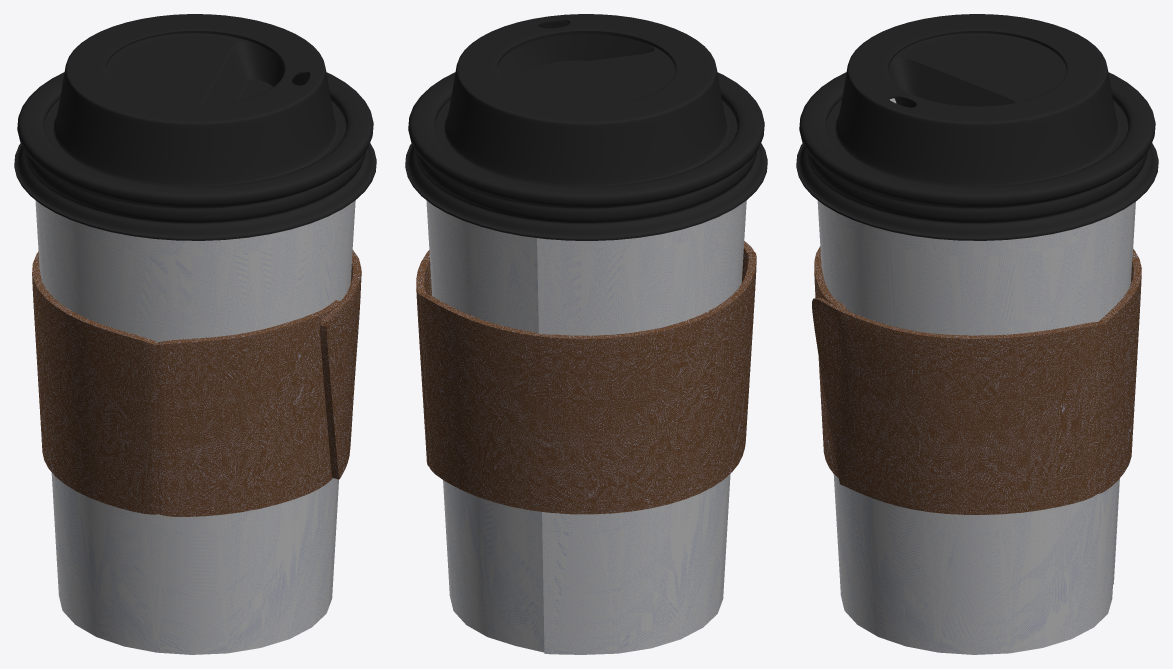
3 renders of one model, left to right at view 1: azimuth 30°, elevation 25°; view 2: azimuth 150°, elevation 25°; view 3: azimuth 270°, elevation 25°, orthographic.
Parts seen in each view (by area): view 1: Circle, Circle.001, Circle.002; view 2: Circle, Circle.001, Circle.002; view 3: Circle, Circle.001, Circle.002.
Part boxes in pixels (box(x1,y1,x2,y2)): Circle: box(35, 200, 355, 654); Circle.001: box(14, 14, 376, 240); Circle.002: box(32, 250, 361, 516); Circle: box(426, 200, 746, 654); Circle.001: box(405, 14, 767, 240); Circle.002: box(416, 241, 756, 514); Circle: box(817, 98, 1135, 654); Circle.001: box(796, 14, 1158, 240); Circle.002: box(812, 246, 1141, 514).
Size of the model in its own units: 5.26 by 5.26 by 8.48.
